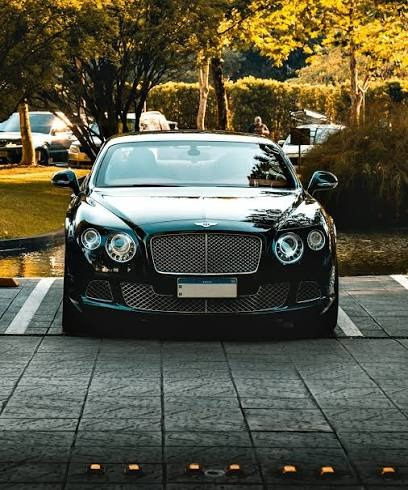car: (66, 130, 343, 322), (65, 129, 337, 322), (1, 110, 83, 163), (282, 115, 341, 147)
